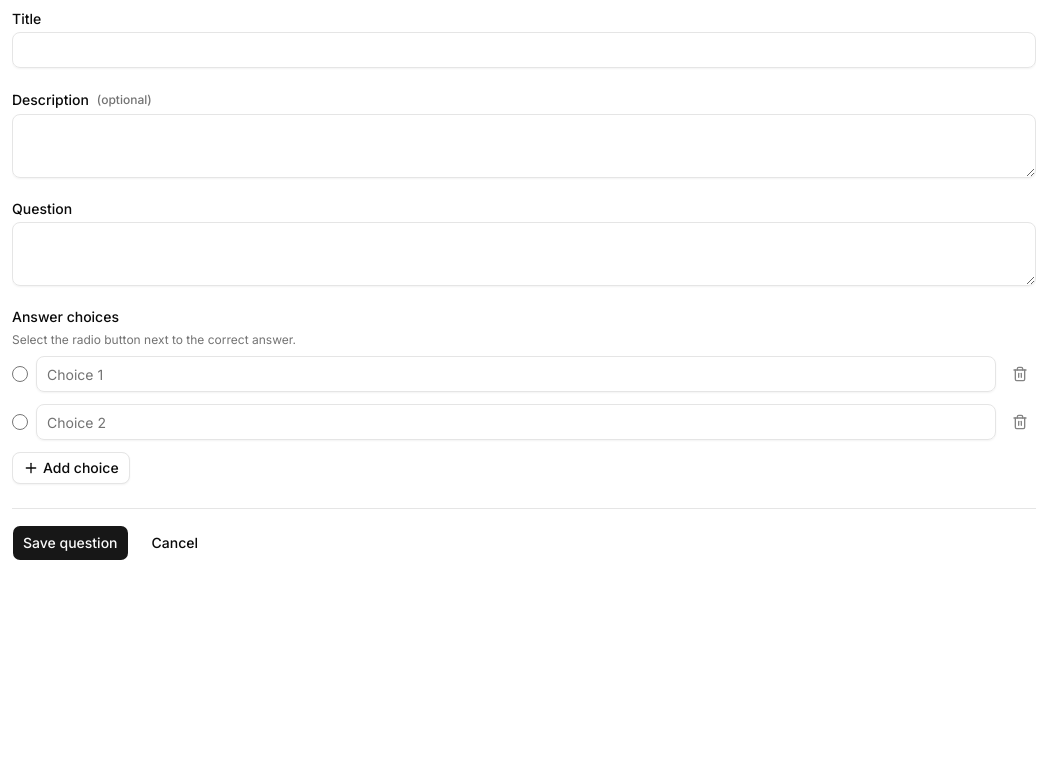
Test case: QuestionForm — AnswerChoiceList behaviour › enables Remove buttons when more than 2 choices exist
Click the button "Add choice" at x=71, y=468, box [12, 452, 130, 484]
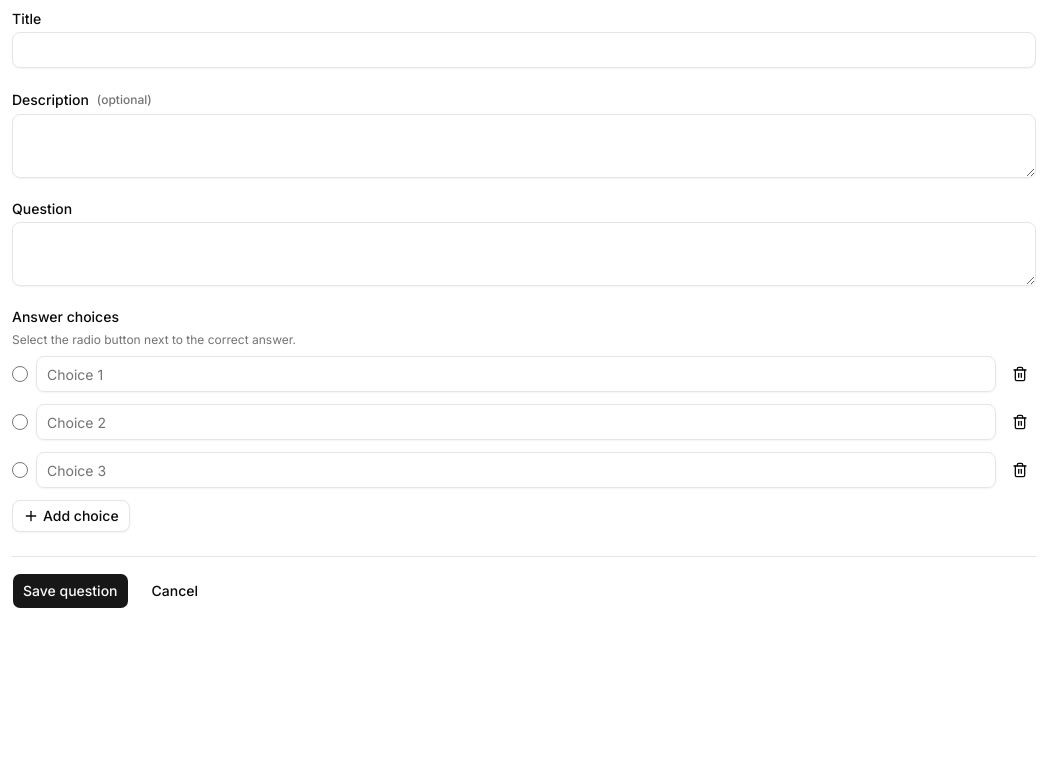
Result: the number of buttons named "remove choice" is 3 at [1004, 358, 1036, 390]; [1004, 406, 1036, 438]; [1004, 454, 1036, 486]
Result: the button named "remove choice" is enabled at [1004, 358, 1036, 390]
